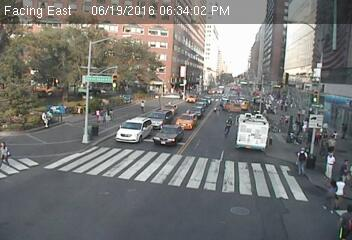neg: (218, 113, 242, 144), (49, 68, 66, 91), (167, 110, 181, 128), (226, 95, 239, 113), (117, 71, 129, 87), (244, 100, 254, 114)
pos: (319, 150, 345, 185), (293, 144, 314, 171), (34, 107, 54, 134), (136, 98, 150, 116)
